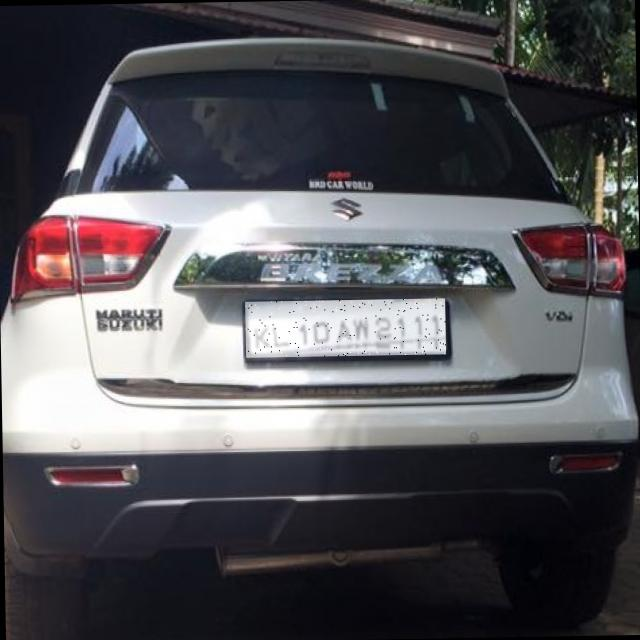Plate: (246, 299, 447, 358)
